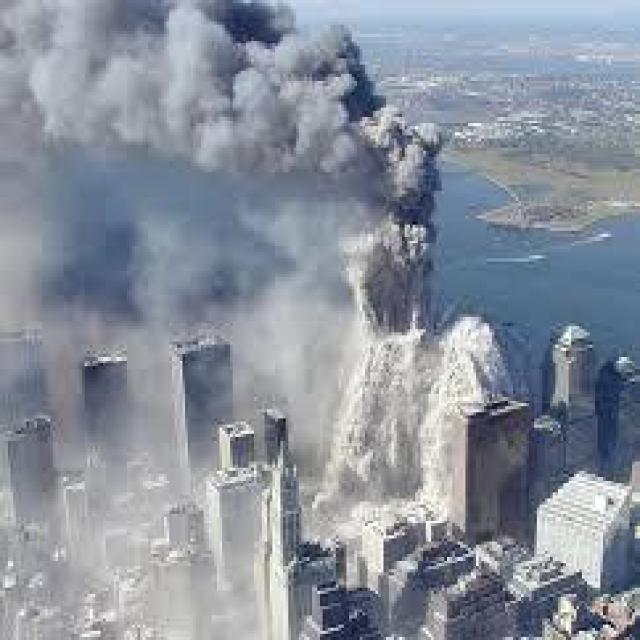Smoke: (4, 2, 441, 340), (28, 348, 308, 599), (334, 354, 498, 512)
